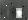person: (17, 9, 23, 19)
